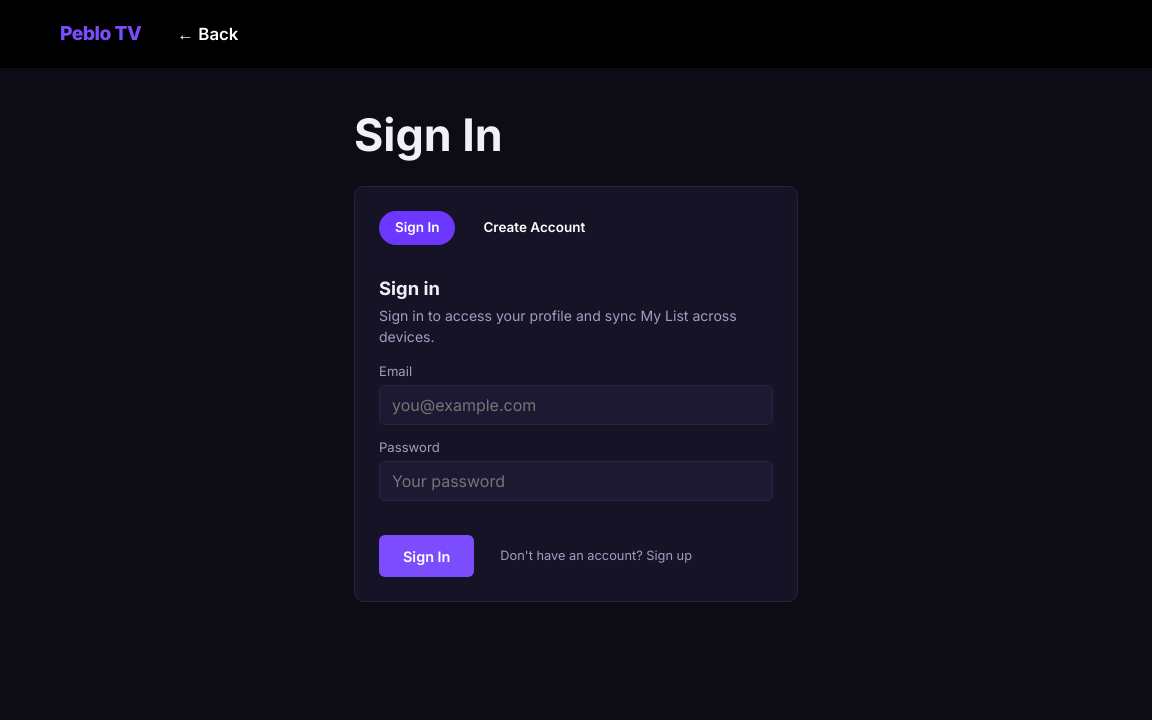
Test case: Profile page › surfaces sign-in failures from the API
Type "ankit@example.com" into the field labelled "Email". click: (576, 405)
box: [379,385,773,425]
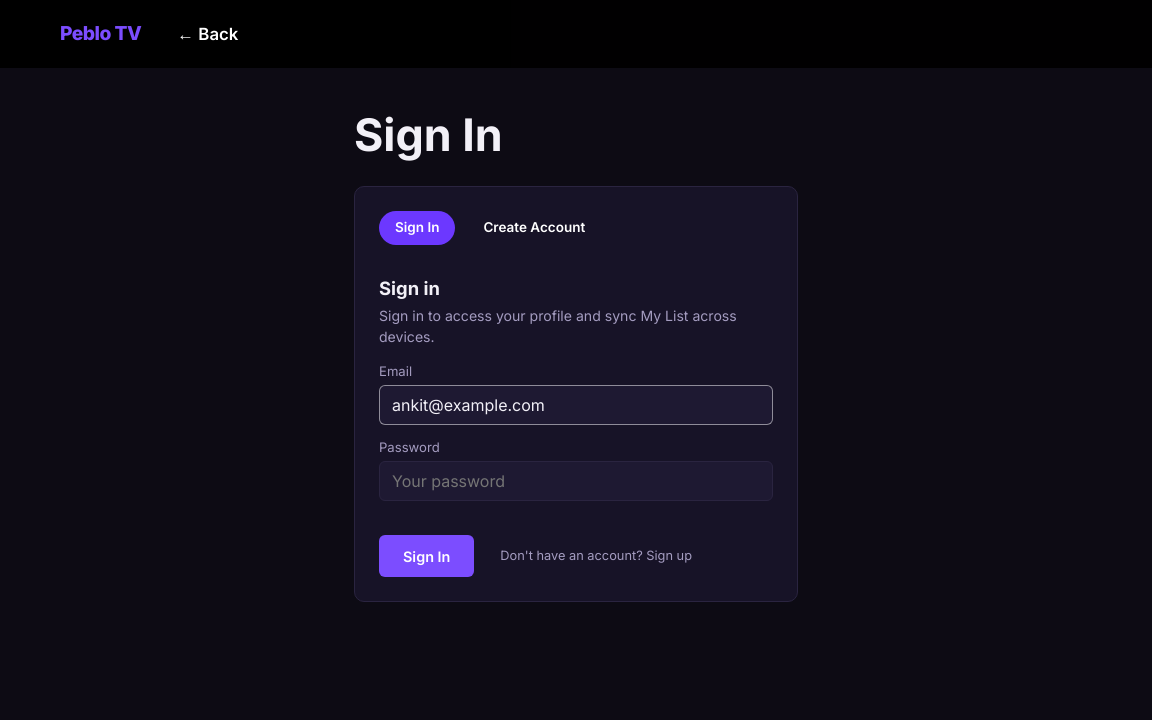
Type "wrongpass" into the password field labelled "Password". click: (576, 481)
box: [379,461,773,501]
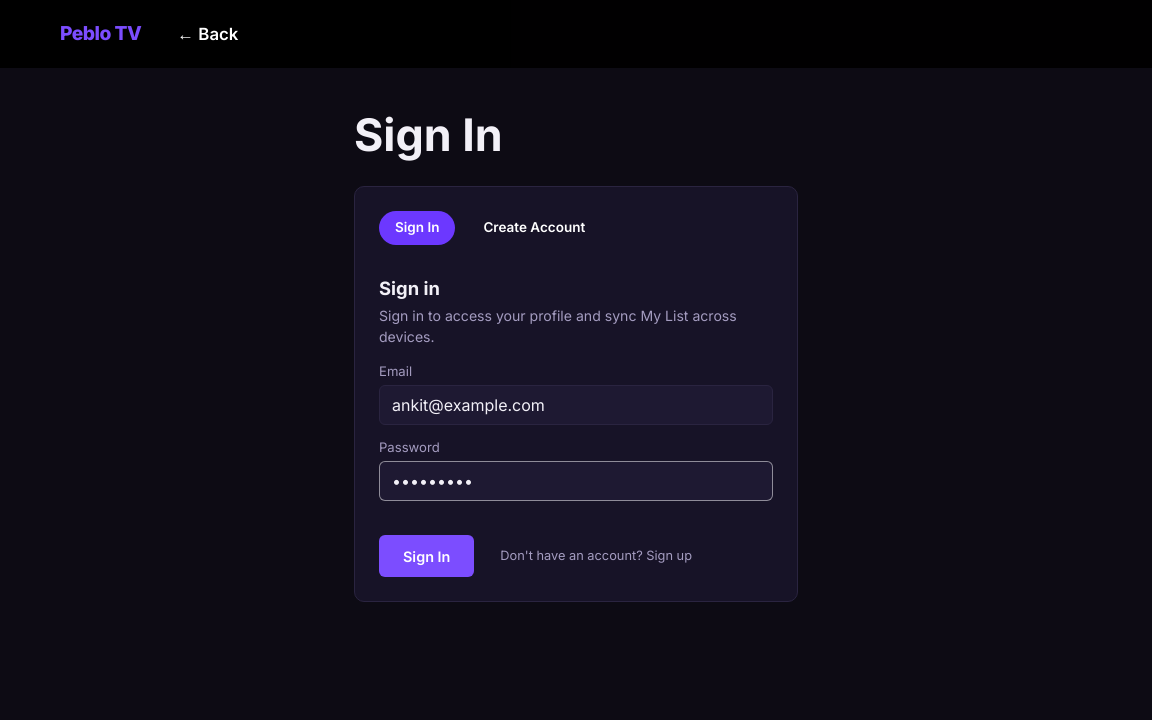
# [0] is the Sign In mode tab, [1] is the form submit button.
Click the button "Sign In" below "Password". click: (427, 556)
box: [379,535,474,577]
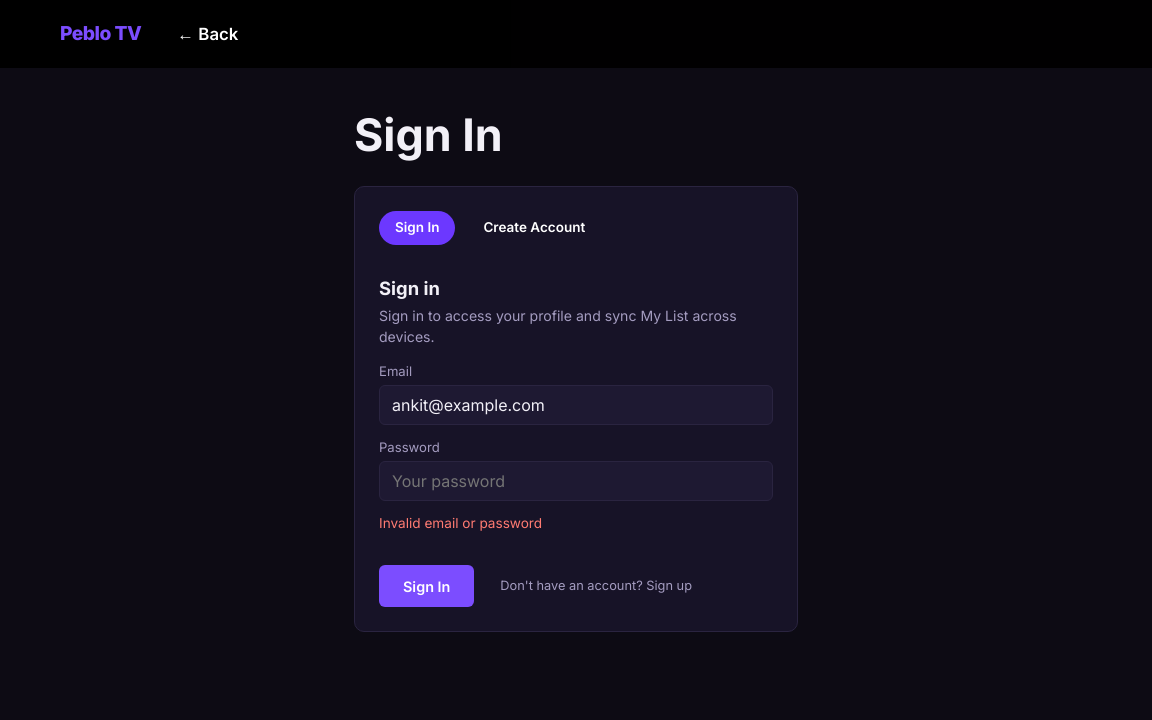
Expected: the heading "Sign In" is shown, [354,108,503,162]
Expected: the text "Invalid email or password" is shown, [379,515,542,531]
